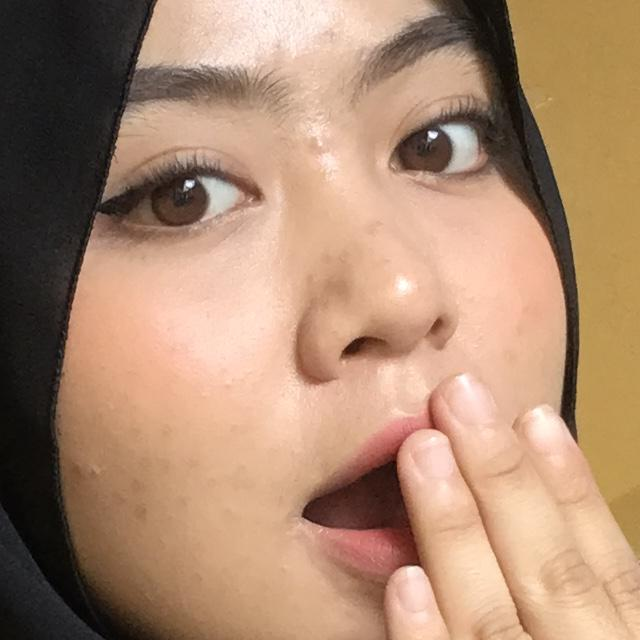ngantuk: (330, 351, 640, 640)
